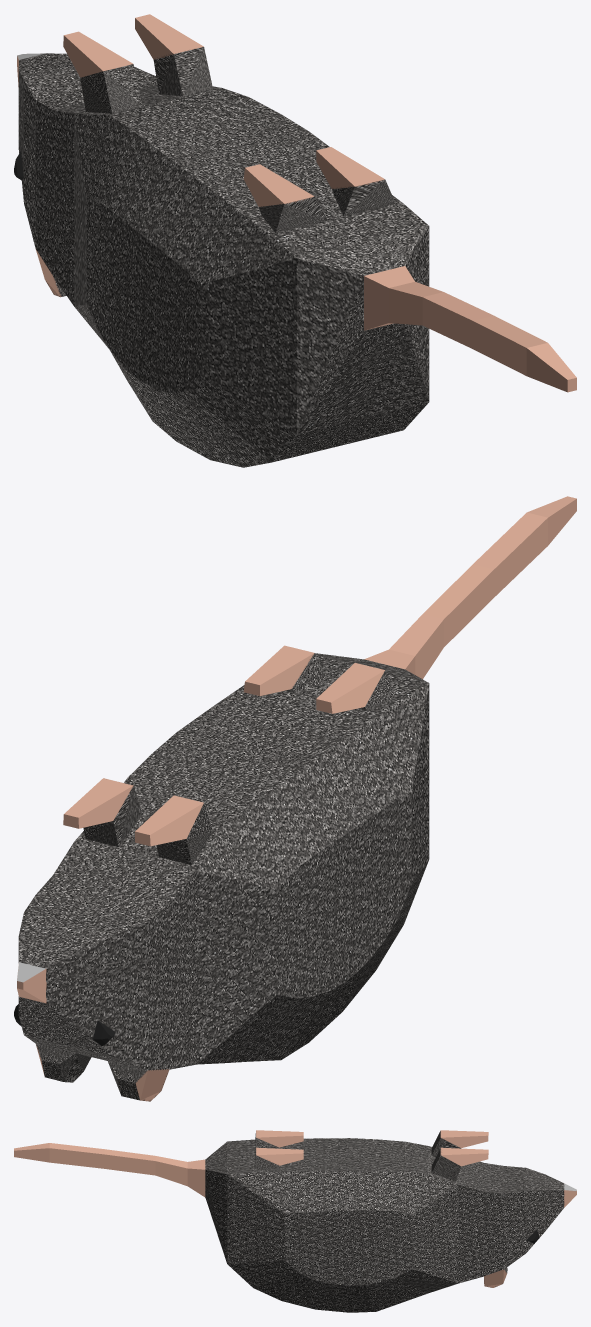
The model's file is SM_Rat.001.fbx.
The picture shows the model from 3 angles, top to bottom: view 1: azimuth 30°, elevation 25°; view 2: azimuth 150°, elevation 25°; view 3: azimuth 270°, elevation 25°; orthographic projection. The views are drawn at different scales.
Visible parts, largest first — view 1: Rat.001; view 2: Rat.001; view 3: Rat.001.
Part boxes in pixels (box(x1,y1,x2,y2)): Rat.001: box(14, 14, 576, 467); Rat.001: box(14, 496, 576, 1101); Rat.001: box(14, 1130, 576, 1312).
Bounding box in the file's own units: 14.15 × 19.38 × 64.38.
